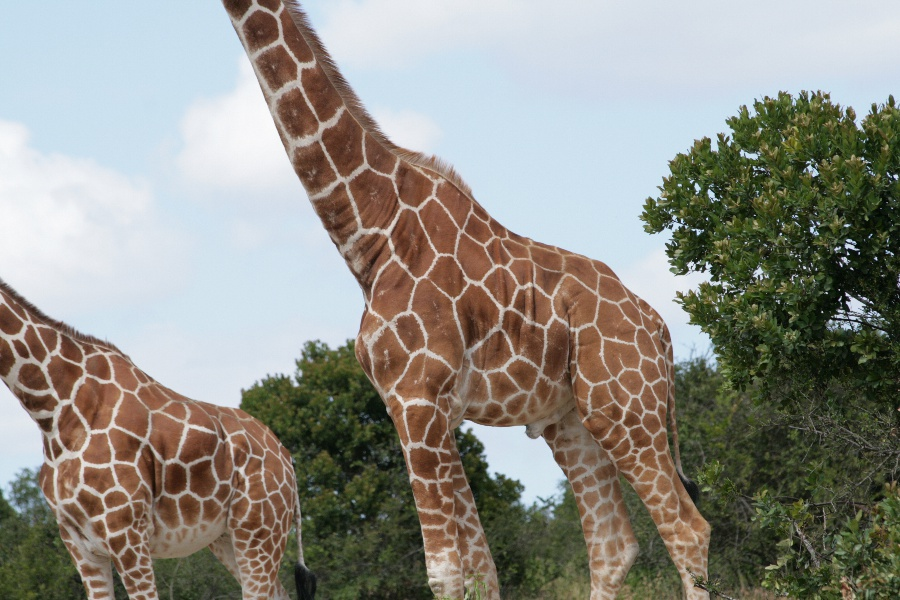giraffe: (214, 0, 717, 599), (0, 271, 309, 599)
